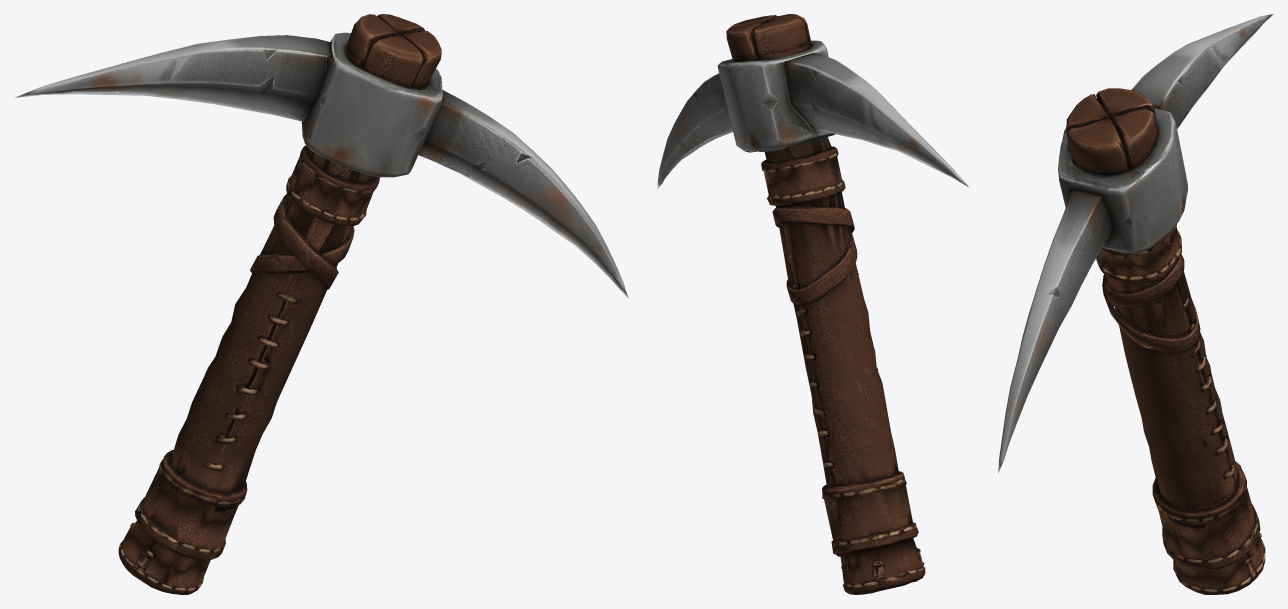
Rendered from pickaxe.fbx.
The picture shows the model from 3 angles, left to right: view 1: azimuth 30°, elevation 25°; view 2: azimuth 150°, elevation 25°; view 3: azimuth 270°, elevation 25°; orthographic projection. The views are drawn at different scales.
Visible parts, largest first — view 1: tripo_node_f7eb0f89; view 2: tripo_node_f7eb0f89; view 3: tripo_node_f7eb0f89.
Boxes of the visible parts, x1,y1,x2,y2 form: tripo_node_f7eb0f89: (15, 14, 628, 594); tripo_node_f7eb0f89: (657, 14, 969, 594); tripo_node_f7eb0f89: (998, 14, 1273, 594).
Size of the model in its own units: 0.8965 by 0.998 by 0.4395.
1 material, 1 textured.
